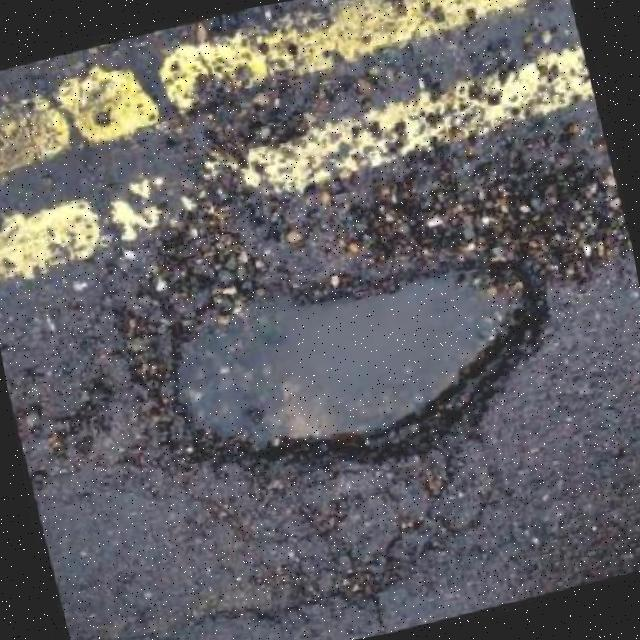Pothole: (141, 278, 545, 464)
